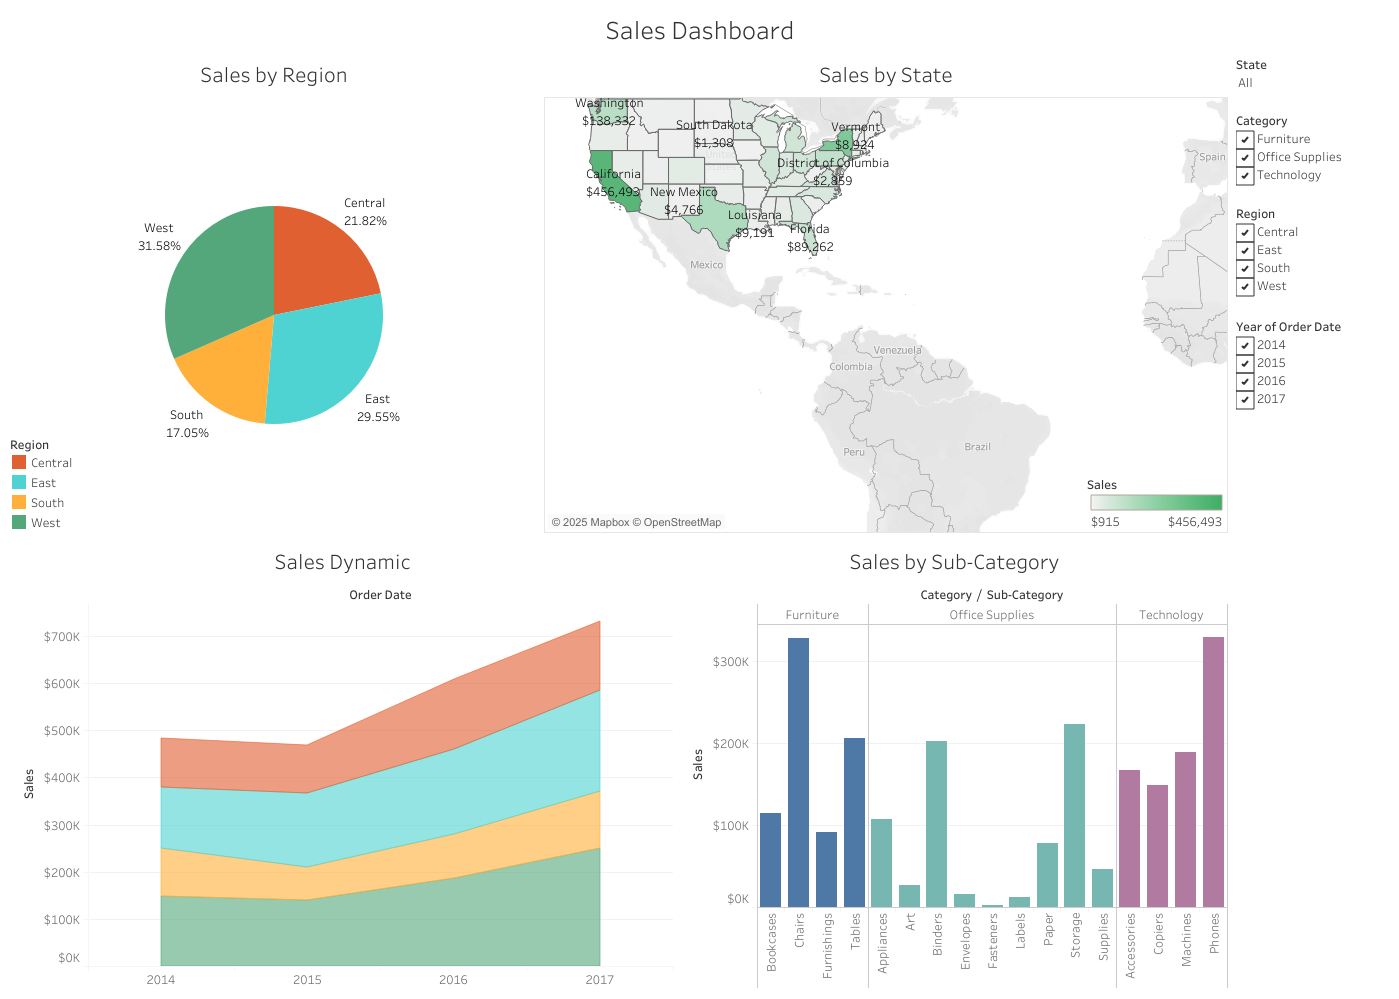

This screenshot's page, from the dashboard's own definition file:
{"tool":"tableau","page":{"name":"Sales Dashboard","canvas":[1000,1000],"units":"permille","ordinal":0},"visuals":[{"type":"title","box":[5.7,8,988.6,42]},{"type":"worksheet","title":"Sales by Region","mark":"Pie","box":[5.7,50,380,487]},{"type":"worksheet","title":"Sales by State","mark":"Automatic","box":[385.7,50,494.3,487]},{"type":"filter","title":"Sales by State","param":"[federated.0h9rmog095y88318ubw0o0tivrfg].[none:State:nk]","box":[880,50,114.3,52]},{"type":"filter","title":"Sales by Sub-Category","param":"[federated.0h9rmog095y88318ubw0o0tivrfg].[none:Category:nk]","box":[880,102,114.3,89]},{"type":"filter","title":"Sales by State","param":"[federated.0h9rmog095y88318ubw0o0tivrfg].[none:Region:nk]","box":[880,191,114.3,108]},{"type":"filter","title":"Sales Dynamic","param":"[federated.0h9rmog095y88318ubw0o0tivrfg].[yr:Order Date:ok]","box":[880,299,114.3,108]},{"type":"legend","title":"Sales by Region","param":"[federated.0h9rmog095y88318ubw0o0tivrfg].[none:Region:nk]","box":[6.4,433,100,108]},{"type":"legend","title":"Sales by State","param":"[federated.0h9rmog095y88318ubw0o0tivrfg].[sum:Sales:qk]","box":[776.4,471,100,61]},{"type":"worksheet","title":"Sales Dynamic","mark":"Area","rows":["Sales"],"cols":["Order Date"],"box":[5.7,537,477.9,455]},{"type":"worksheet","title":"Sales by Sub-Category","mark":"Automatic","rows":["Sales"],"cols":["Category","Sub-Category"],"box":[483.6,537,396.4,455]}]}

Visuals, with their boxes on the dashboard's canvas, which has no fixed pixel size, in thousandths of its width and height (x1, y1, x2, y2). These are canvas units, not pixel positions in the 1399x999 screenshot, which may show the page scaled, cropped or inside an application window:
title: 6, 8, 994, 50
"Sales by Region" worksheet (Pie marks): 6, 50, 386, 537
"Sales by State" worksheet: 386, 50, 880, 537
"Sales by State" filter: 880, 50, 994, 102
"Sales by Sub-Category" filter: 880, 102, 994, 191
"Sales by State" filter: 880, 191, 994, 299
"Sales Dynamic" filter: 880, 299, 994, 407
"Sales by Region" legend: 6, 433, 106, 541
"Sales by State" legend: 776, 471, 876, 532
"Sales Dynamic" worksheet (Area marks): 6, 537, 484, 992
"Sales by Sub-Category" worksheet: 484, 537, 880, 992
